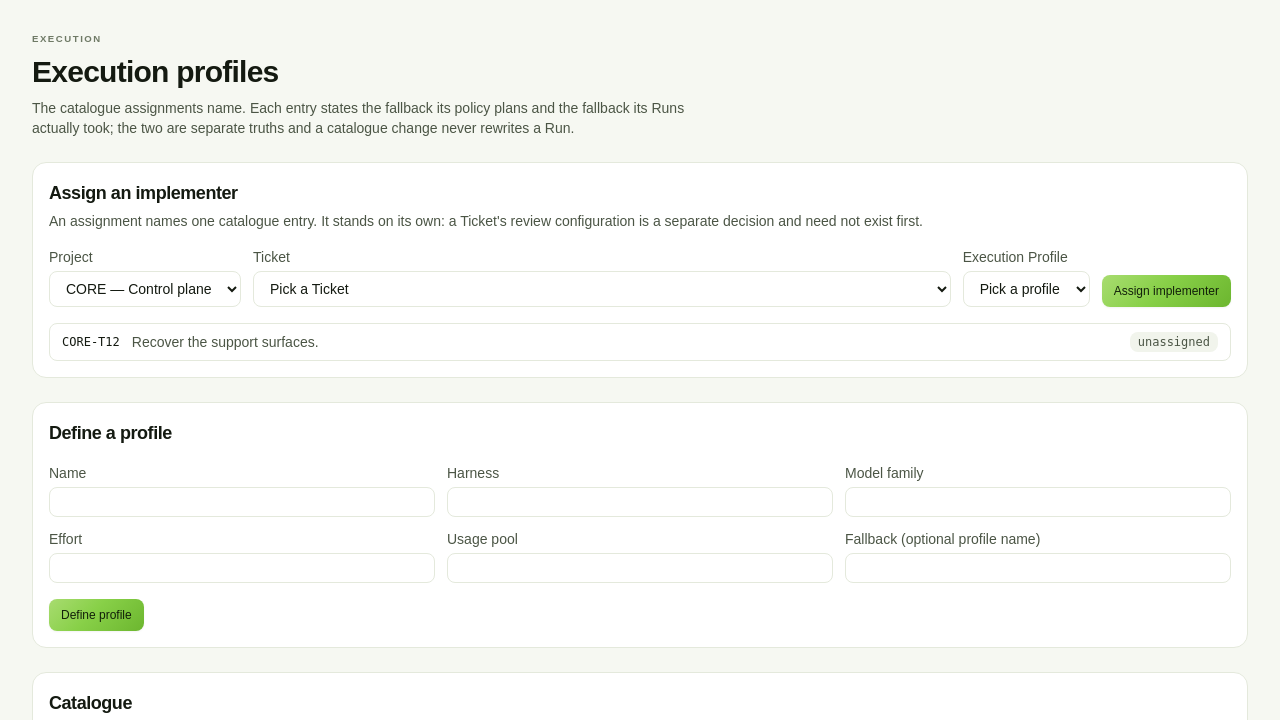
Test: ProfilesView assignment › assigns an implementer through the production command with no review configured
The width and height of the screenshot is (1280, 720).
Select "CORE-T12 — Recover the support surfaces." in the dropdown with test id "assign-ticket" at (602, 289), box [253,271,951,307]
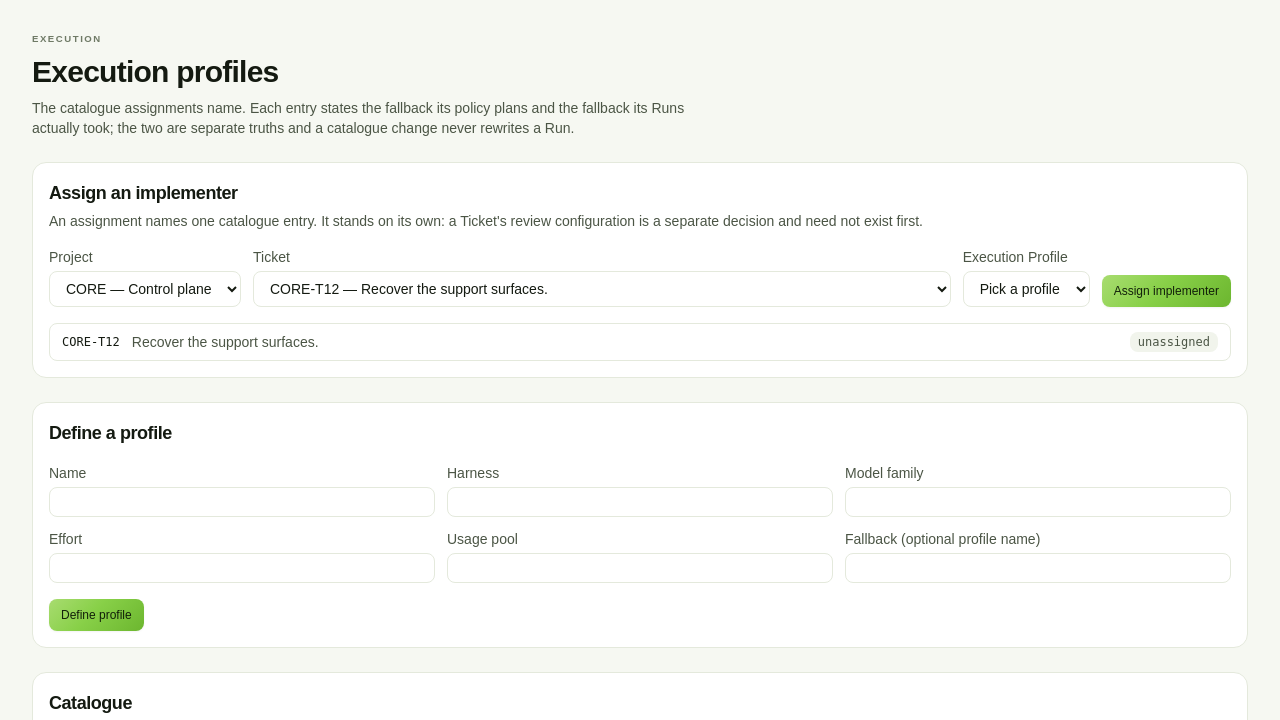
Select "deep" in the dropdown with test id "assign-profile" at (1026, 289), box [963,271,1090,307]
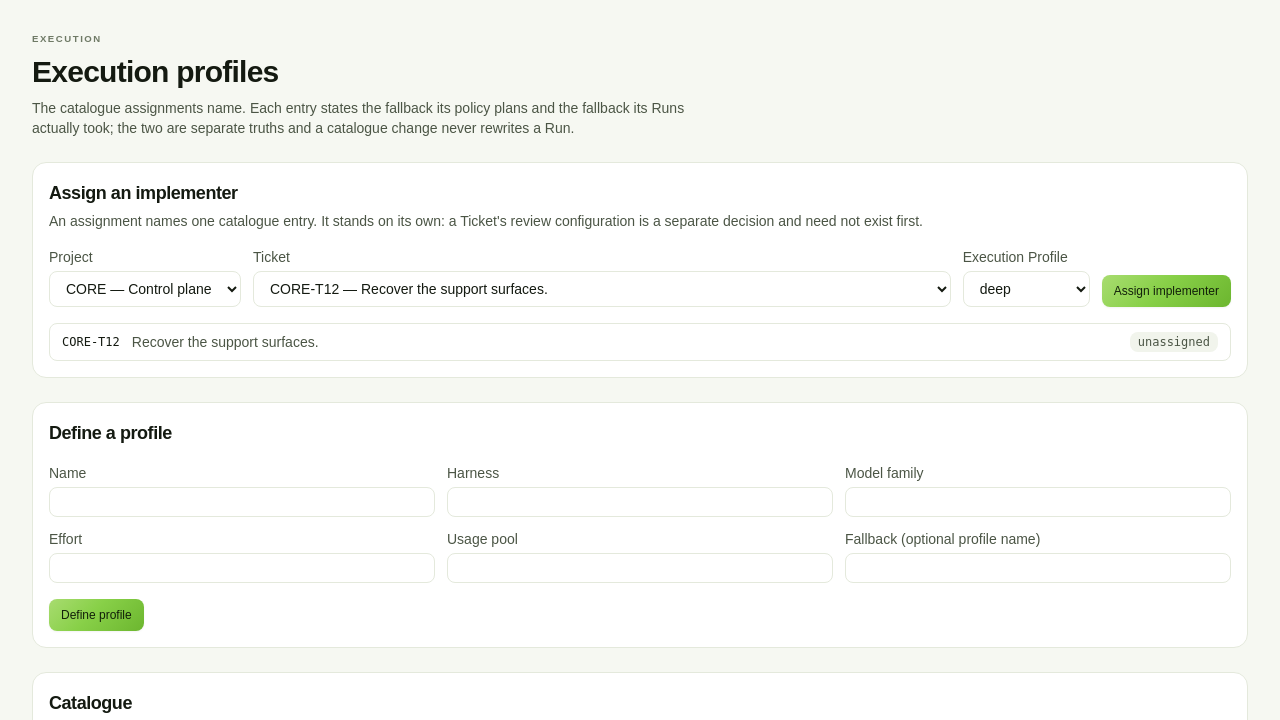
Submit the form from the button with test id "assign-submit", box [1102,275,1231,307]
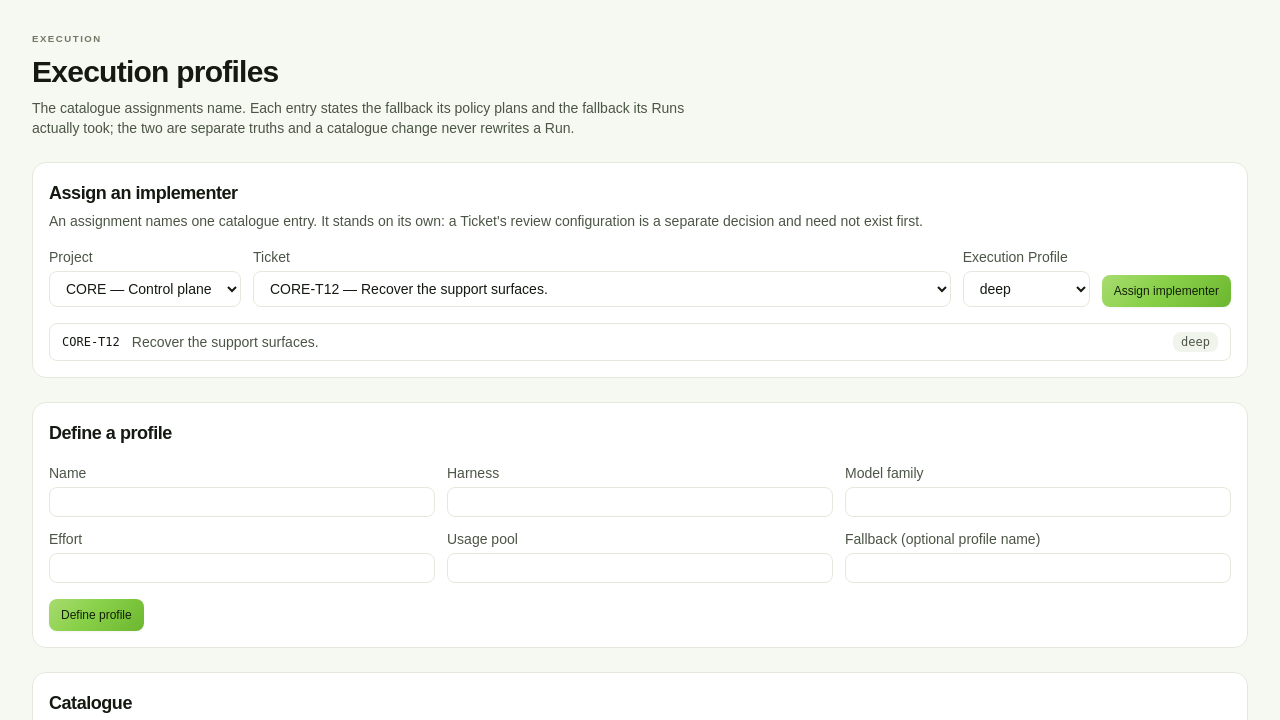
Expected: the text with test id "assign-ticket-5-profile" reads "deep", [1181,335,1210,349]
